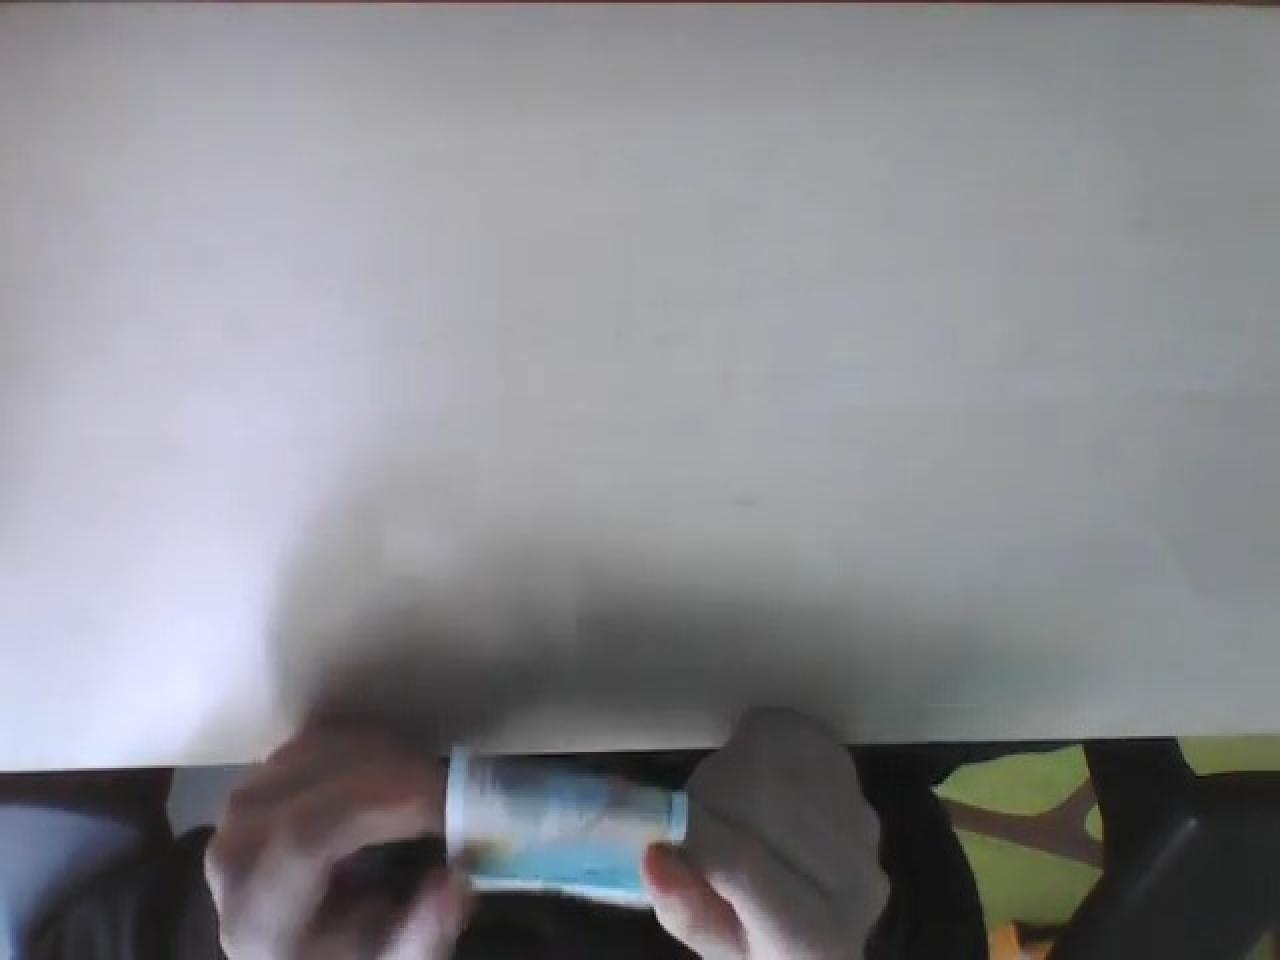100leva: (438, 744, 692, 915)
